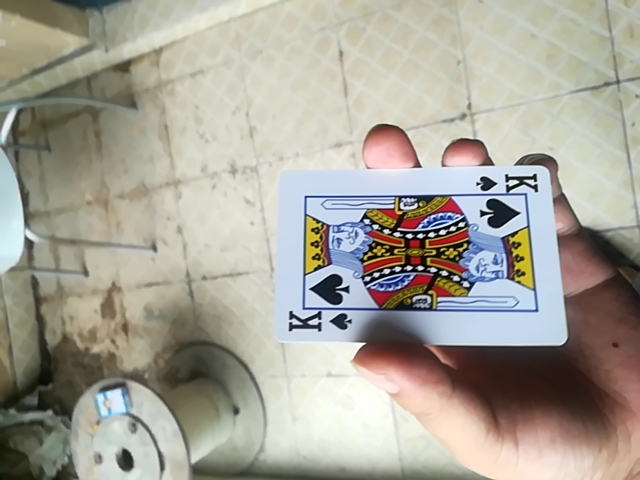ht k: (267, 168, 567, 351)
